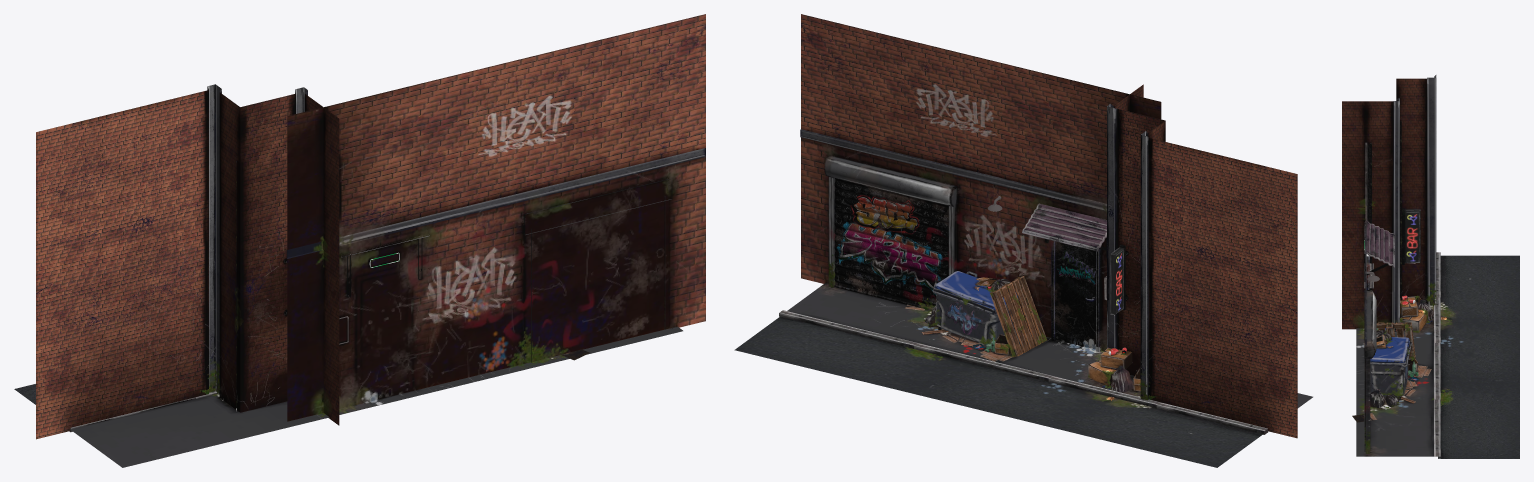
The model's file is dirty_street.glb.
3 renders of one model, left to right at view 1: azimuth 30°, elevation 25°; view 2: azimuth 150°, elevation 25°; view 3: azimuth 270°, elevation 25°, orthographic. The views are drawn at different scales.
Parts seen in each view (by area): view 1: Plane.008_lambert4_0, Plane.008_aiStandardSurface1_0; view 2: Plane.008_lambert4_0, Plane.008_aiStandardSurface1_0; view 3: Plane.008_lambert4_0, Plane.008_aiStandardSurface1_0.
Boxes of the visible parts, <box> form: Plane.008_lambert4_0: <box>14,14,705,467</box>; Plane.008_aiStandardSurface1_0: <box>236,161,589,411</box>; Plane.008_lambert4_0: <box>734,14,1312,467</box>; Plane.008_aiStandardSurface1_0: <box>905,196,1140,400</box>; Plane.008_lambert4_0: <box>1342,75,1519,458</box>; Plane.008_aiStandardSurface1_0: <box>1352,120,1446,422</box>.
Size of the model in its own units: 8.26 by 3.96 by 2.75.
Materials: 2 (2 with a texture image).
